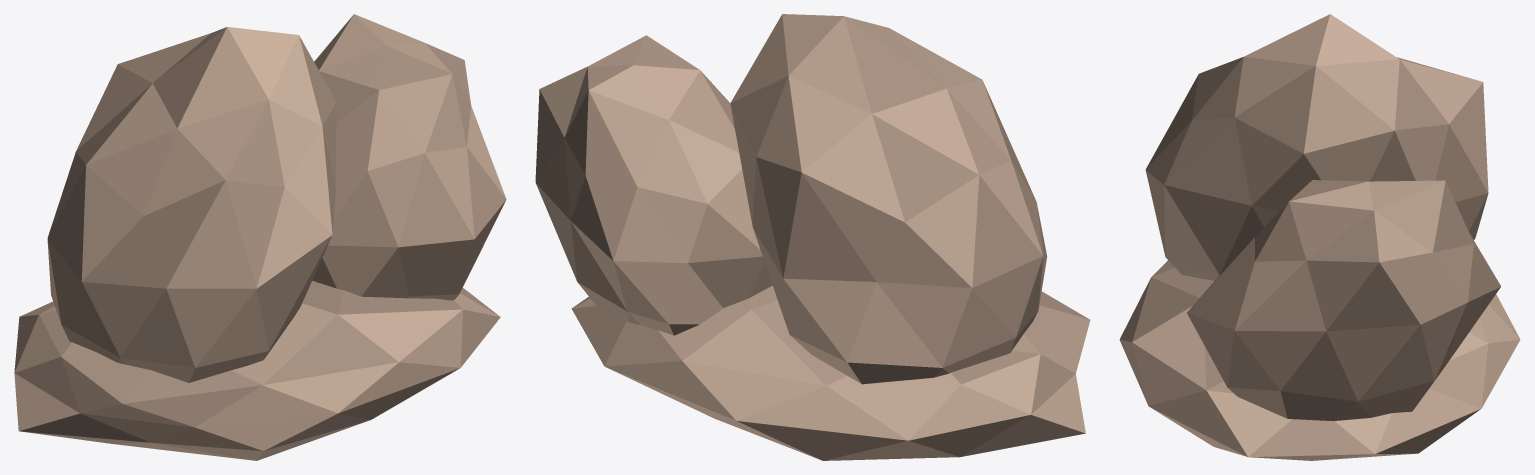
Rendered from rock_split_formation.glb.
3 views of the same model, side by side, from view 1: azimuth 30°, elevation 25°; view 2: azimuth 150°, elevation 25°; view 3: azimuth 270°, elevation 25° (orthographic). The views are drawn at different scales.
Visible parts, largest first — view 1: Large split boulder left section, Shared weathered rock base, Large split boulder right section; view 2: Large split boulder left section, Large split boulder right section, Shared weathered rock base; view 3: Large split boulder right section, Large split boulder left section, Shared weathered rock base.
Part boxes in pixels (bbox=[...]): Large split boulder left section: bbox=[47, 27, 336, 382]; Shared weathered rock base: bbox=[14, 281, 500, 460]; Large split boulder right section: bbox=[312, 14, 506, 300]; Large split boulder left section: bbox=[730, 14, 1047, 384]; Large split boulder right section: bbox=[535, 35, 772, 335]; Shared weathered rock base: bbox=[571, 285, 1090, 460]; Large split boulder right section: bbox=[1187, 180, 1500, 421]; Large split boulder left section: bbox=[1145, 14, 1488, 280]; Shared weathered rock base: bbox=[1119, 260, 1520, 460].
Size of the model in its own units: 2.04 by 1.55 by 1.44.
